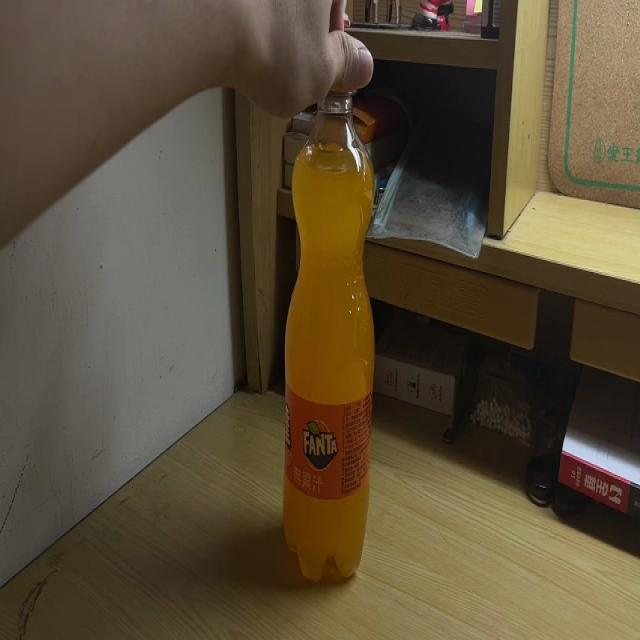Fanta: (283, 47, 376, 580)
